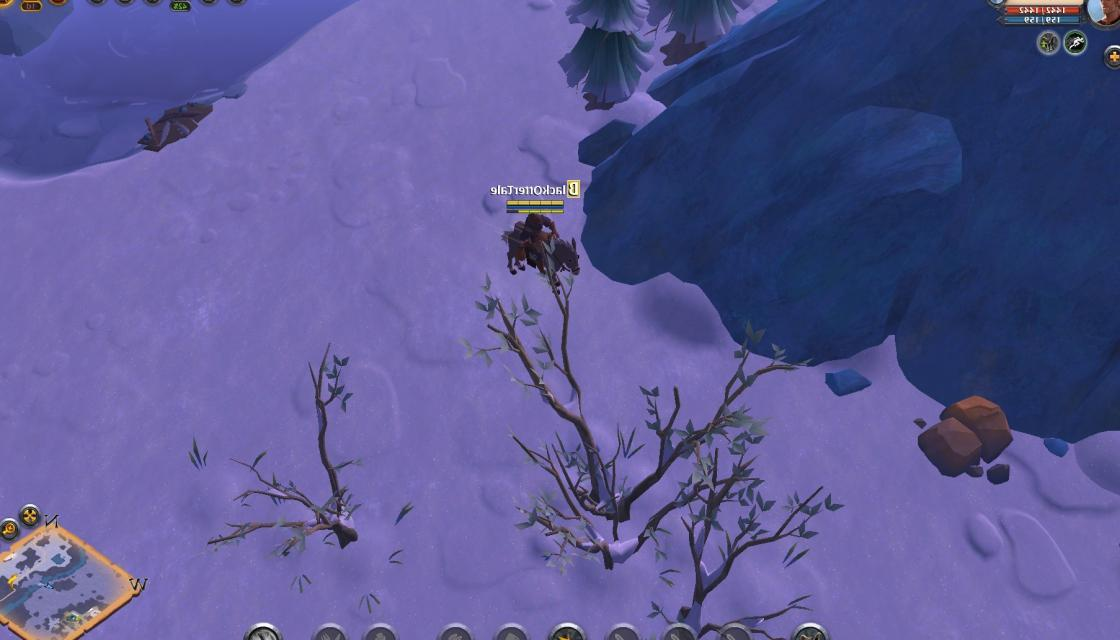limestone: (916, 391, 1014, 489)
